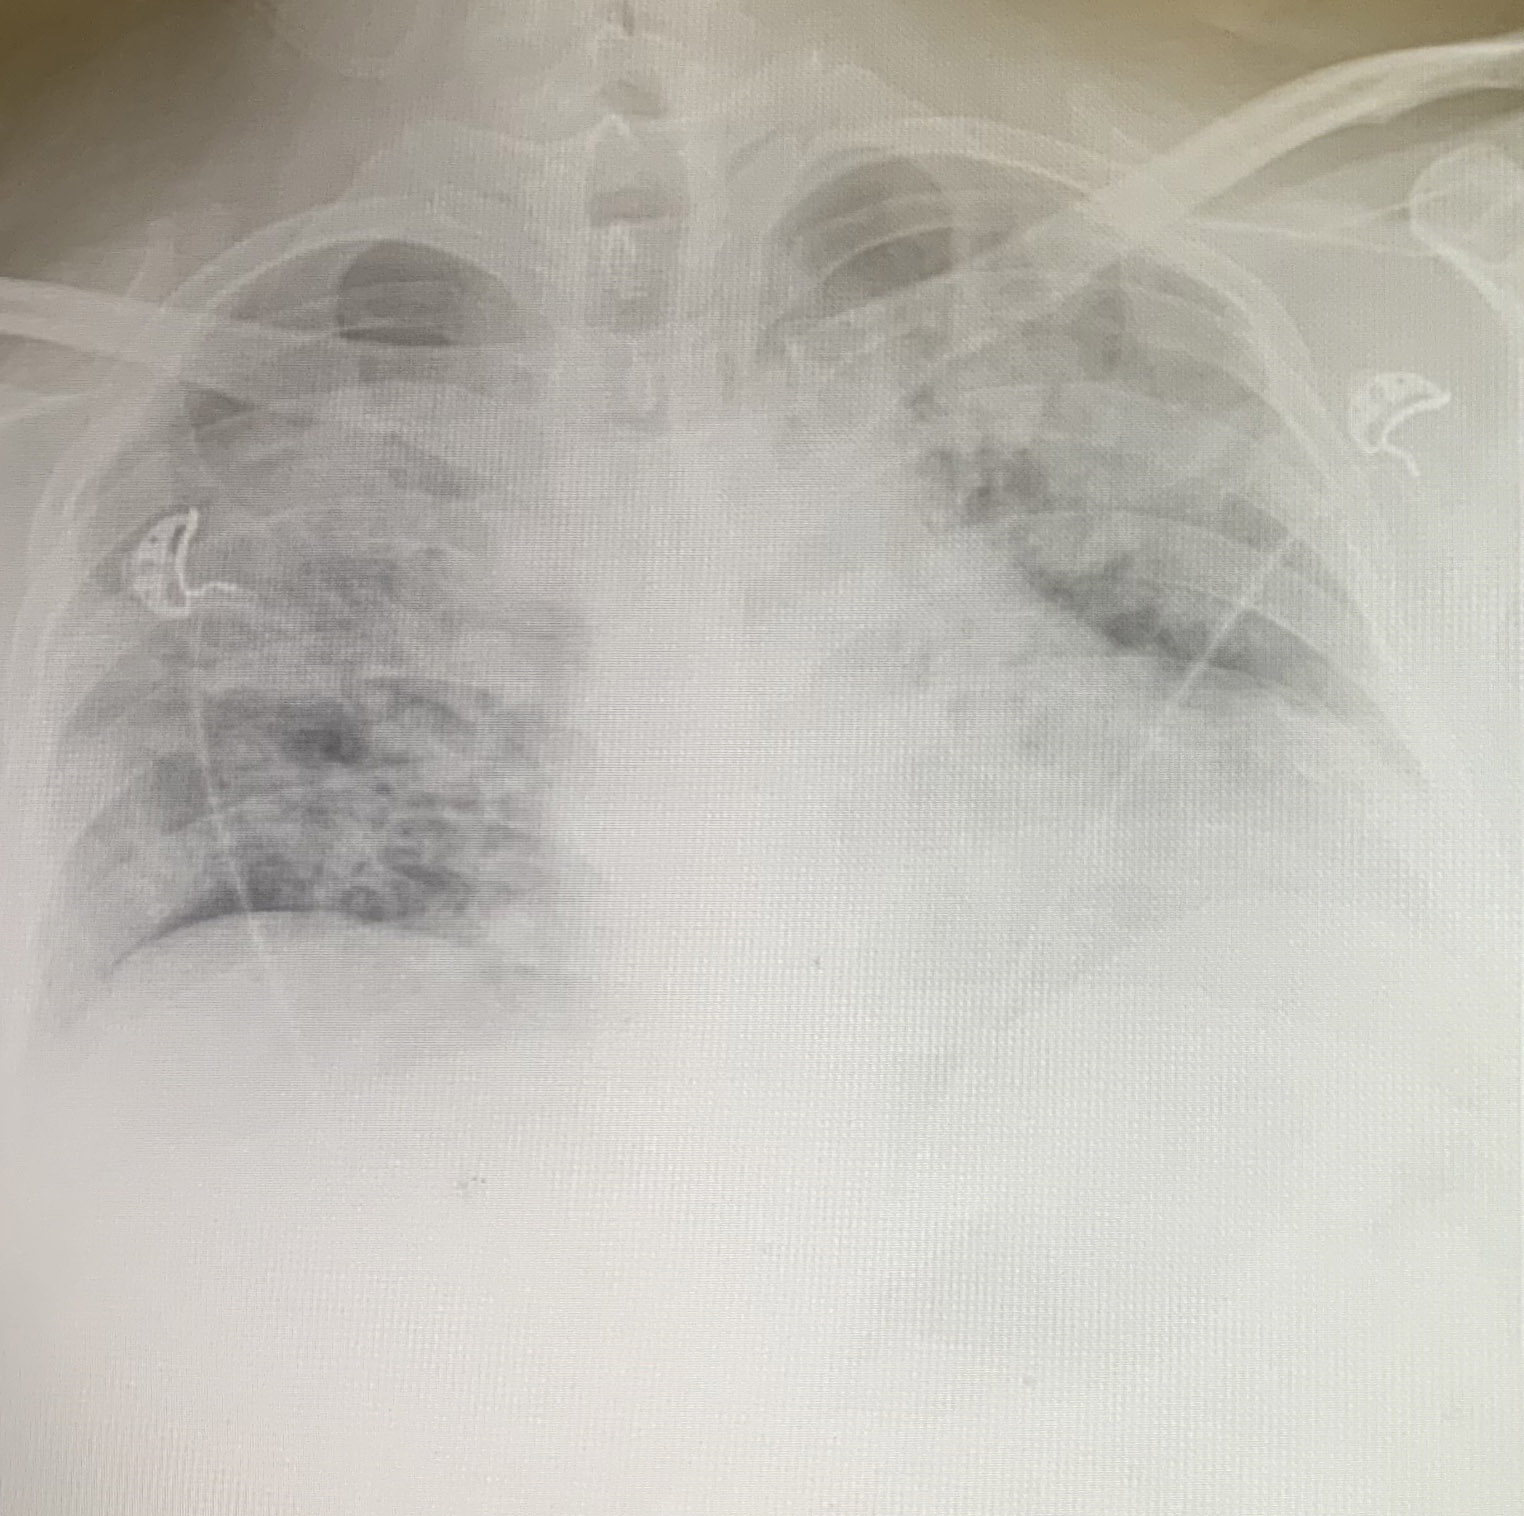Severe: (33, 228, 572, 951), (793, 169, 1371, 721)
